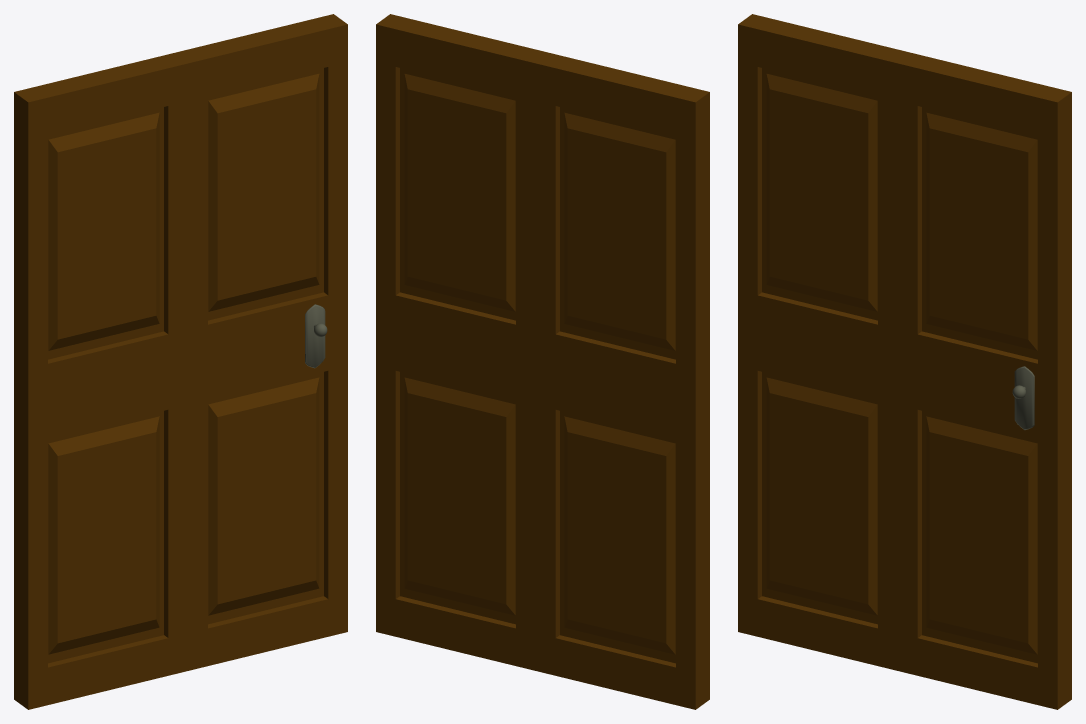
The model's file is library_door_v3.1.fbx.
3 views of the same model, side by side, from view 1: azimuth 30°, elevation 25°; view 2: azimuth 150°, elevation 25°; view 3: azimuth 330°, elevation 25° (orthographic).
Visible parts, largest first — view 1: door, base macaneta; view 2: door; view 3: door, base macaneta.
Boxes of the visible parts, x1,y1,x2,y2 form: door: [14, 14, 347, 709]; base macaneta: [305, 304, 327, 368]; door: [376, 14, 709, 709]; door: [738, 14, 1071, 709]; base macaneta: [1012, 366, 1034, 429].
Size of the model in its own units: 313 by 568 by 39.26.
